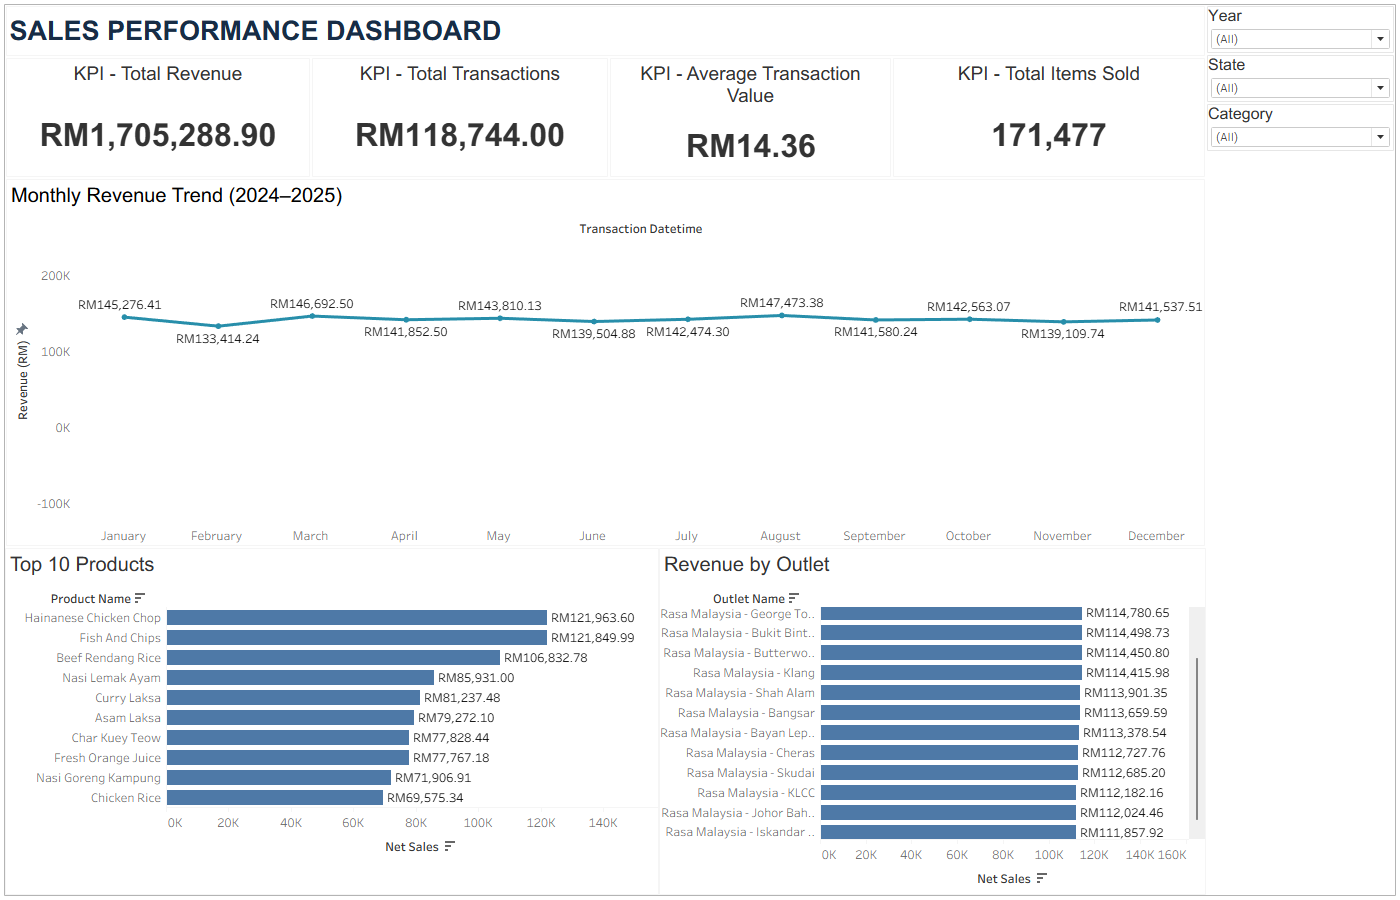

What the dashboard file says about the page in this screenshot:
{"tool":"tableau","page":{"name":"Sales Performance Dashboard","canvas":[1200,900],"ordinal":1},"visuals":[{"type":"text","box":[5,5,1190,74]},{"type":"filter","title":"Monthly Revenue Trend","param":"[federated.13j09sk1e8tshy18qfdvy0k978l7].[yr:transaction_datetime:ok]","box":[723,21,146,44]},{"type":"filter","title":"Monthly Revenue Trend","param":"[federated.13j09sk1e8tshy18qfdvy0k978l7].[none:category:nk]","box":[1039,21,146,45]},{"type":"filter","title":"Monthly Revenue Trend","param":"[federated.13j09sk1e8tshy18qfdvy0k978l7].[none:state:nk]","box":[882,22,145,46]},{"type":"worksheet","title":"KPI - Total Revenue","mark":"Automatic","box":[5,79,303,146]},{"type":"worksheet","title":"KPI - Total Transactions","mark":"Automatic","box":[308,79,293,146]},{"type":"worksheet","title":"KPI - Average Transaction Value","mark":"Automatic","box":[601,79,291,146]},{"type":"worksheet","title":"KPI - Total Items Sold","mark":"Automatic","box":[892,79,303,146]},{"type":"worksheet","title":"Monthly Revenue Trend","mark":"Line","rows":["net_sales"],"cols":["transaction_datetime"],"box":[5,225,1190,322.6]},{"type":"worksheet","title":"Top 10 Products","mark":"Bar","rows":["product_name"],"cols":["net_sales"],"box":[5,547.6,610,347.4]},{"type":"worksheet","title":"Revenue by Outlet","mark":"Bar","rows":["outlet_name"],"cols":["net_sales"],"box":[615,547.6,580,347.4]}]}

Visuals, with their boxes on the page's 1200x900 design canvas (x1, y1, x2, y2). These are canvas units, not pixel positions in the 1400x900 screenshot, which may show the page scaled, cropped or inside an application window:
text: x1=5, y1=5, x2=1195, y2=79
"Monthly Revenue Trend" filter: x1=723, y1=21, x2=869, y2=65
"Monthly Revenue Trend" filter: x1=1039, y1=21, x2=1185, y2=66
"Monthly Revenue Trend" filter: x1=882, y1=22, x2=1027, y2=68
"KPI - Total Revenue" worksheet: x1=5, y1=79, x2=308, y2=225
"KPI - Total Transactions" worksheet: x1=308, y1=79, x2=601, y2=225
"KPI - Average Transaction Value" worksheet: x1=601, y1=79, x2=892, y2=225
"KPI - Total Items Sold" worksheet: x1=892, y1=79, x2=1195, y2=225
"Monthly Revenue Trend" worksheet (Line marks): x1=5, y1=225, x2=1195, y2=548
"Top 10 Products" worksheet (Bar marks): x1=5, y1=548, x2=615, y2=895
"Revenue by Outlet" worksheet (Bar marks): x1=615, y1=548, x2=1195, y2=895
